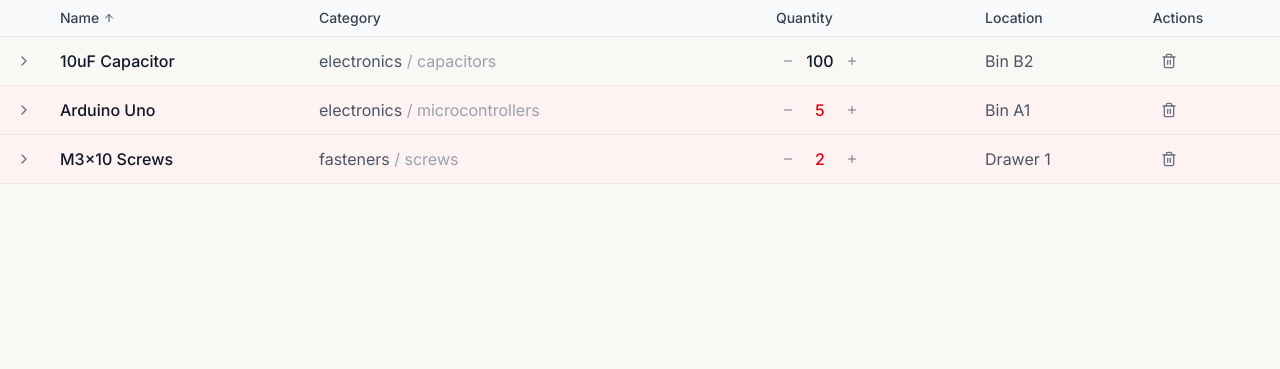
Test: InventoryList › expandable rows › should collapse row on second click
The width and height of the screenshot is (1280, 369).
Click the button named "expand": (24, 110) 8,94 -> 40,126
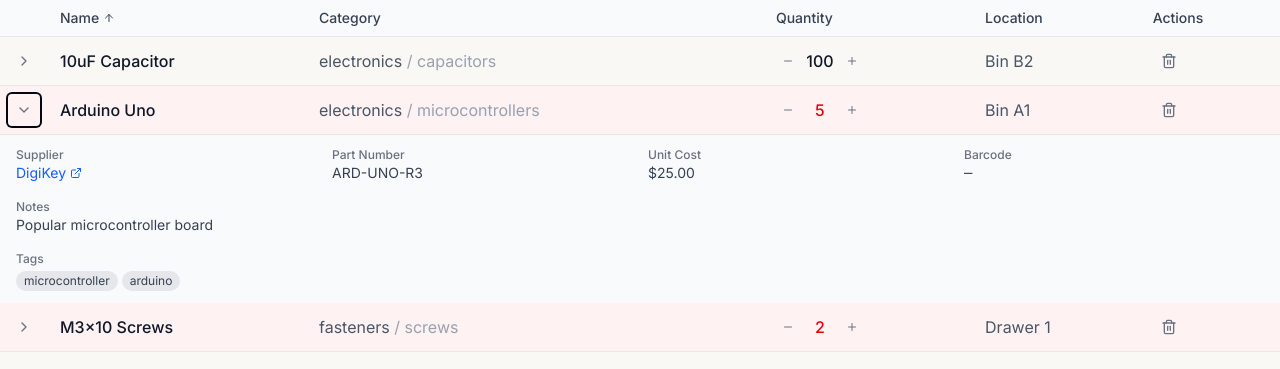
Now the text "Popular microcontroller board" is shown, box 16,216 -> 213,233
Click the button named "collapse": (24, 110) 8,94 -> 40,126
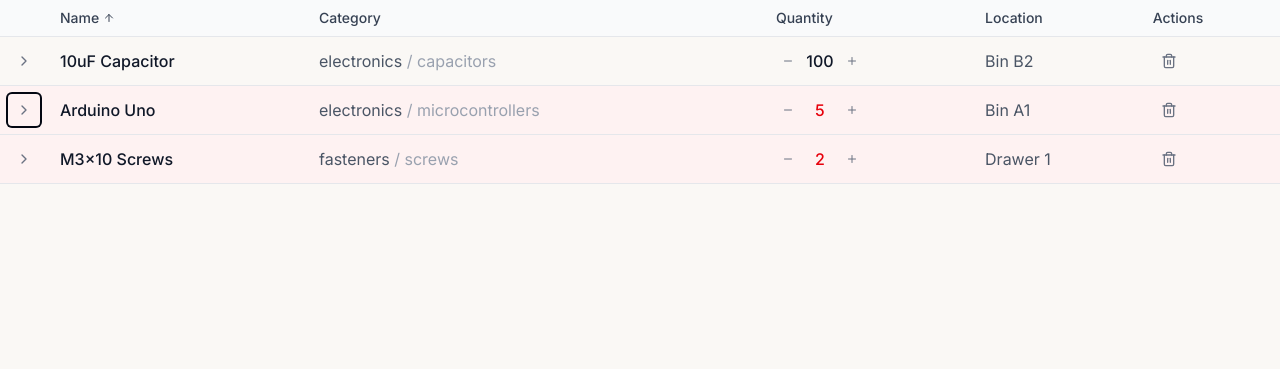
Now the text "Popular microcontroller board" is gone
